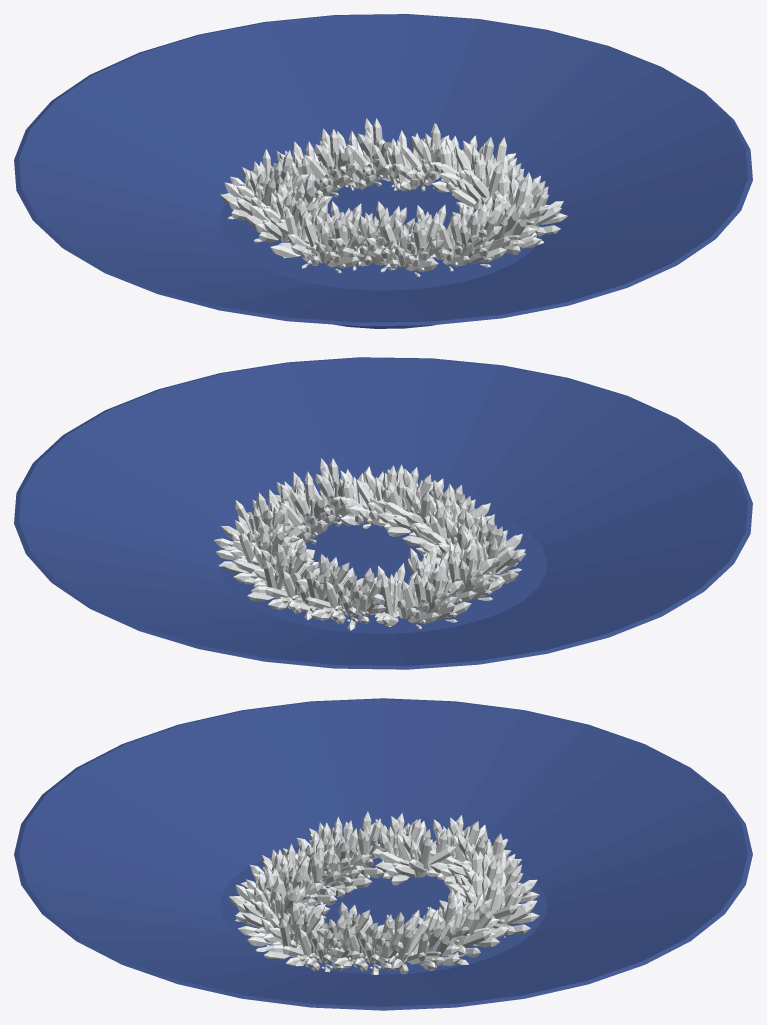
File: cristales.glb
3 views of the same model, one above another, from view 1: azimuth 30°, elevation 25°; view 2: azimuth 150°, elevation 25°; view 3: azimuth 270°, elevation 25° (orthographic).
Parts seen in each view (by area): view 1: Cilindro, Mesh_Mesh_head_geo.001_lambert2SG.003, Mesh_Mesh_head_geo.001_lambert2SG.006, Mesh_Mesh_head_geo.001_lambert2SG.005, Mesh_Mesh_head_geo.001_lambert2SG.011, Mesh_Mesh_head_geo.001_lambert2SG.004, Mesh_Mesh_head_geo.001_lambert2SG.002, Mesh_Mesh_head_geo.001_lambert2SG.013, Mesh_Mesh_head_geo.001_lambert2SG.007, Mesh_Mesh_head_geo.001_lambert2SG.012, Mesh_Mesh_head_geo.001_lambert2SG.008, Mesh_Mesh_head_geo.001_lambert2SG.010 (+2 smaller); view 2: Cilindro, Mesh_Mesh_head_geo.001_lambert2SG.004, Mesh_Mesh_head_geo.001_lambert2SG.013, Mesh_Mesh_head_geo.001_lambert2SG.012, Mesh_Mesh_head_geo.001_lambert2SG.002, Mesh_Mesh_head_geo.001_lambert2SG.006, Mesh_Mesh_head_geo.001_lambert2SG.007, Mesh_Mesh_head_geo.001_lambert2SG.003, Mesh_Mesh_head_geo.001_lambert2SG.011, Mesh_Mesh_head_geo.001_lambert2SG.010, Mesh_Mesh_head_geo.001_lambert2SG.009, Mesh_Mesh_head_geo.001_lambert2SG.008 (+2 smaller); view 3: Cilindro, Mesh_Mesh_head_geo.001_lambert2SG.008, Mesh_Mesh_head_geo.001_lambert2SG.002, Mesh_Mesh_head_geo.001_lambert2SG.010, Mesh_Mesh_head_geo.001_lambert2SG.009, Mesh_Mesh_head_geo.001_lambert2SG.011, Mesh_Mesh_head_geo.001_lambert2SG.004, Mesh_Mesh_head_geo.001_lambert2SG.012, Mesh_Mesh_head_geo.001_lambert2SG.007, Mesh_Mesh_head_geo.001_lambert2SG.006, Mesh_Mesh_head_geo.001_lambert2SG.001, Mesh_Mesh_head_geo.001_lambert2SG.003 (+2 smaller).
Part boxes in pixels (x1,y1,x2,y2): Cilindro: [14, 14, 752, 328]; Mesh_Mesh_head_geo.001_lambert2SG.003: [270, 197, 365, 273]; Mesh_Mesh_head_geo.001_lambert2SG.006: [408, 203, 506, 271]; Mesh_Mesh_head_geo.001_lambert2SG.005: [358, 201, 444, 277]; Mesh_Mesh_head_geo.001_lambert2SG.011: [362, 123, 449, 191]; Mesh_Mesh_head_geo.001_lambert2SG.004: [220, 149, 315, 220]; Mesh_Mesh_head_geo.001_lambert2SG.002: [246, 171, 332, 242]; Mesh_Mesh_head_geo.001_lambert2SG.013: [273, 128, 350, 197]; Mesh_Mesh_head_geo.001_lambert2SG.007: [452, 191, 543, 260]; Mesh_Mesh_head_geo.001_lambert2SG.012: [310, 118, 392, 190]; Mesh_Mesh_head_geo.001_lambert2SG.008: [480, 166, 567, 236]; Mesh_Mesh_head_geo.001_lambert2SG.010: [430, 135, 522, 196]; Cilindro: [14, 357, 752, 669]; Mesh_Mesh_head_geo.001_lambert2SG.004: [374, 559, 471, 629]; Mesh_Mesh_head_geo.001_lambert2SG.013: [290, 554, 385, 630]; Mesh_Mesh_head_geo.001_lambert2SG.012: [247, 543, 338, 619]; Mesh_Mesh_head_geo.001_lambert2SG.002: [408, 538, 505, 605]; Mesh_Mesh_head_geo.001_lambert2SG.006: [376, 467, 450, 536]; Mesh_Mesh_head_geo.001_lambert2SG.007: [320, 464, 404, 529]; Mesh_Mesh_head_geo.001_lambert2SG.003: [439, 511, 525, 583]; Mesh_Mesh_head_geo.001_lambert2SG.011: [222, 518, 318, 587]; Mesh_Mesh_head_geo.001_lambert2SG.010: [214, 492, 306, 566]; Mesh_Mesh_head_geo.001_lambert2SG.009: [247, 476, 328, 544]; Mesh_Mesh_head_geo.001_lambert2SG.008: [275, 458, 352, 526]; Cilindro: [14, 698, 752, 1010]; Mesh_Mesh_head_geo.001_lambert2SG.008: [264, 902, 360, 972]; Mesh_Mesh_head_geo.001_lambert2SG.002: [371, 813, 455, 885]; Mesh_Mesh_head_geo.001_lambert2SG.010: [386, 906, 470, 974]; Mesh_Mesh_head_geo.001_lambert2SG.009: [314, 902, 408, 974]; Mesh_Mesh_head_geo.001_lambert2SG.011: [416, 885, 509, 957]; Mesh_Mesh_head_geo.001_lambert2SG.004: [425, 815, 521, 885]; Mesh_Mesh_head_geo.001_lambert2SG.012: [461, 871, 539, 937]; Mesh_Mesh_head_geo.001_lambert2SG.007: [238, 876, 326, 951]; Mesh_Mesh_head_geo.001_lambert2SG.006: [229, 855, 329, 923]; Mesh_Mesh_head_geo.001_lambert2SG.001: [282, 823, 372, 897]; Mesh_Mesh_head_geo.001_lambert2SG.003: [296, 811, 387, 878].
Size of the model in its own units: 5.19 by 0.7285 by 5.19.
